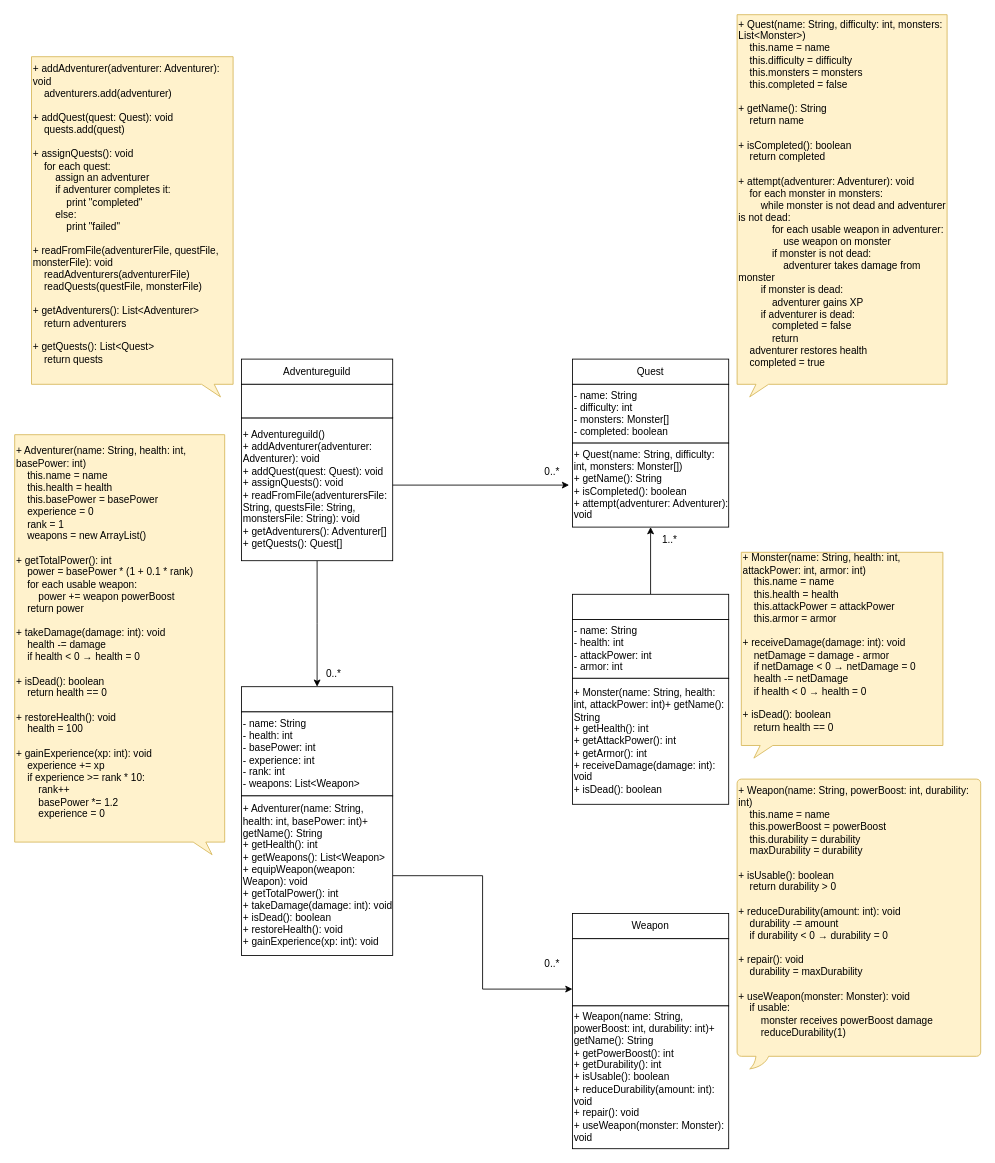
Some shapes in this 995 by 1163 pixel diagram are drawn without their labels. The shapes that lost their labels are listed below. From the top down, each one's box as (x1, y1, x2, y2) in pixels, then its label:
(241, 383, 393, 418): - adventurers: Adventurer[] - quests: Quest[]
(572, 593, 729, 620): Monster
(241, 686, 393, 712): Adventurer
(572, 938, 729, 1006): - name: String - powerBoost: int - durability: int - maxDurability: int
